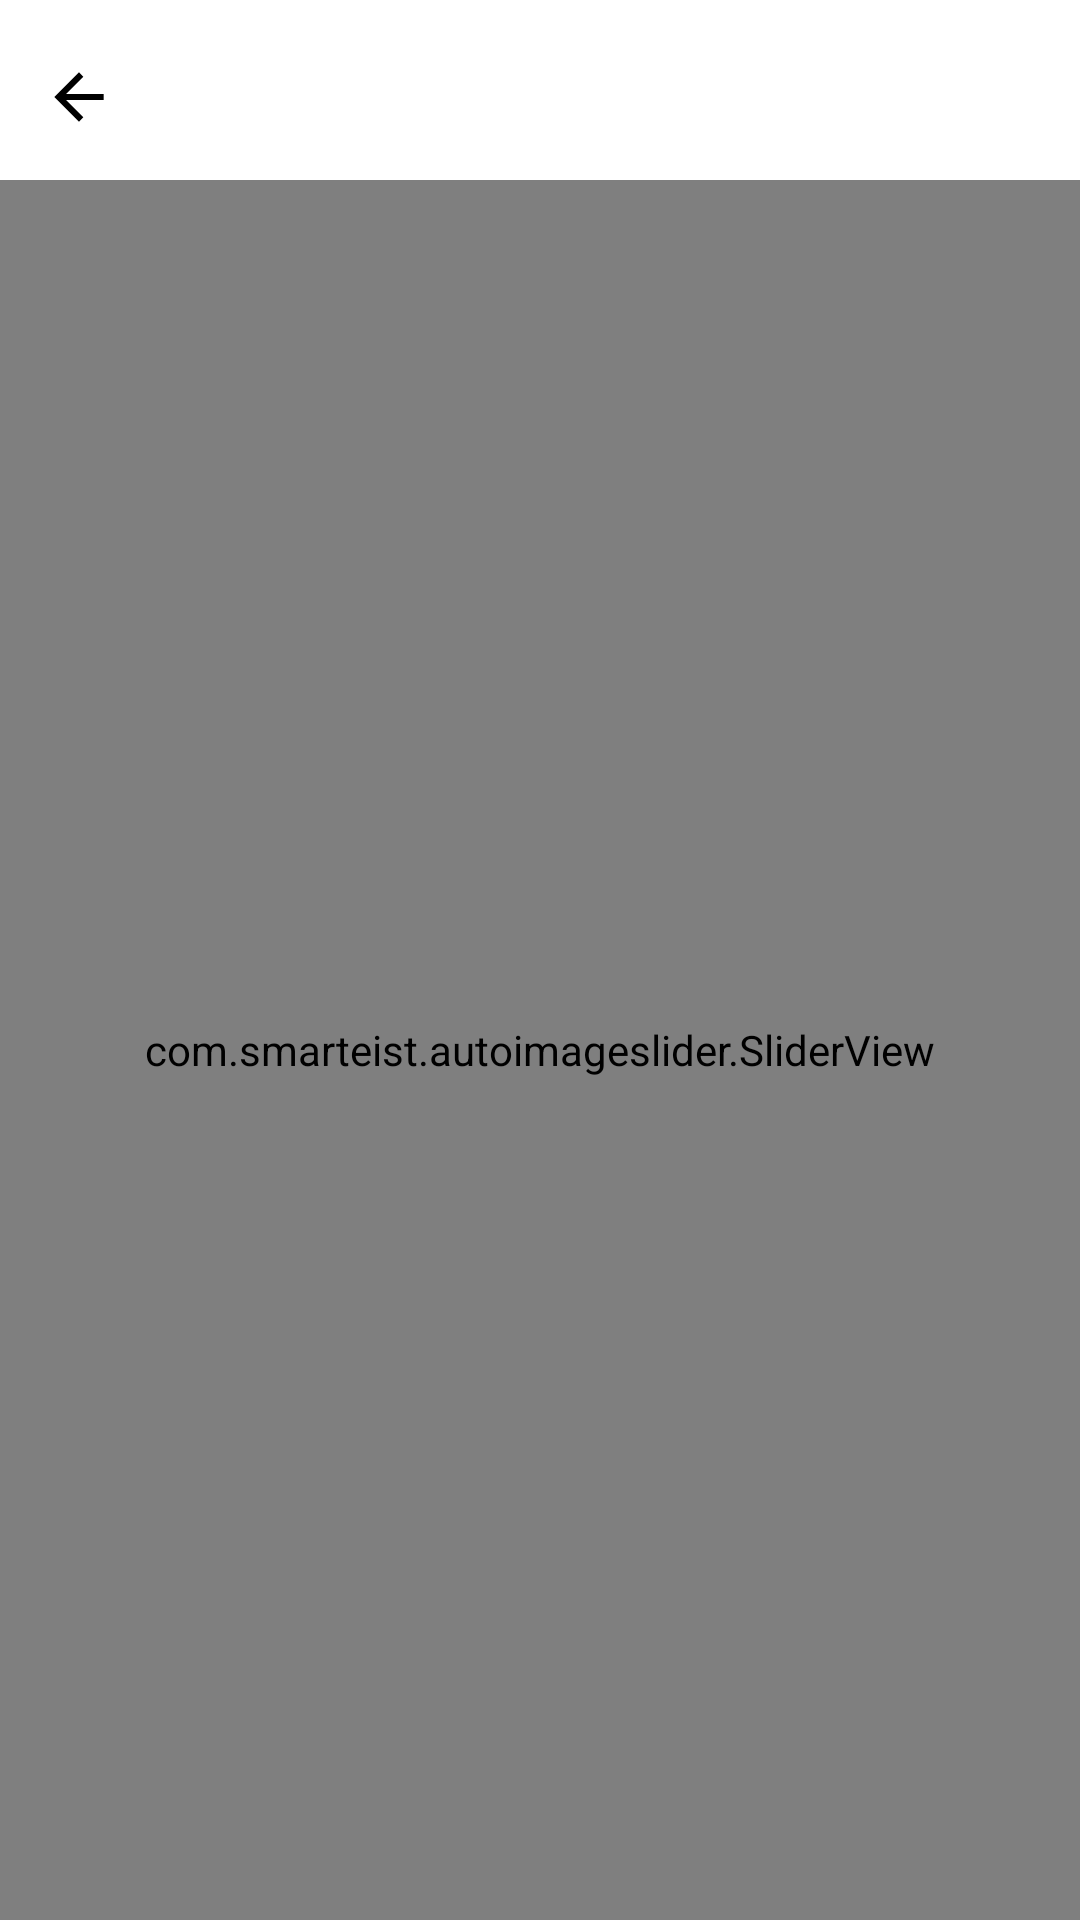

Point at icon controls on the screen. Image size 1080px x 1920px, points as (x=x, y=y).
ab back: (x=79, y=97)
